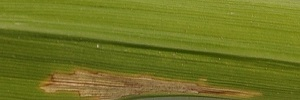RiceBacterialBlight: (34, 63, 267, 100)
